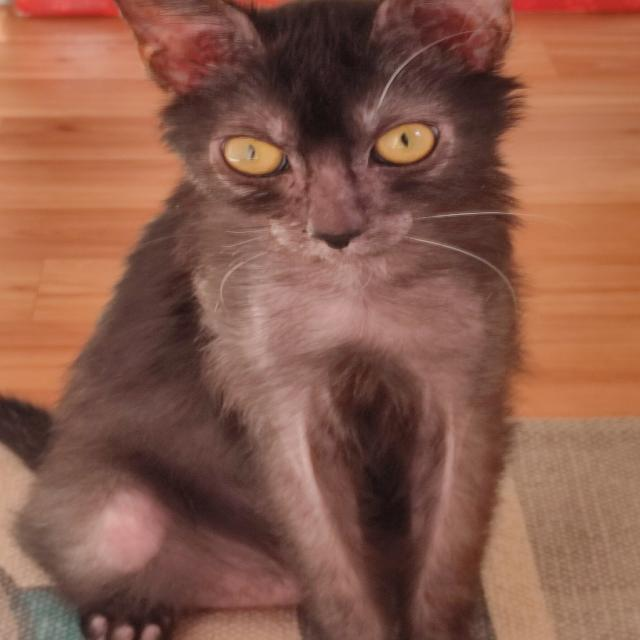Lykoi: (0, 0, 536, 640)
